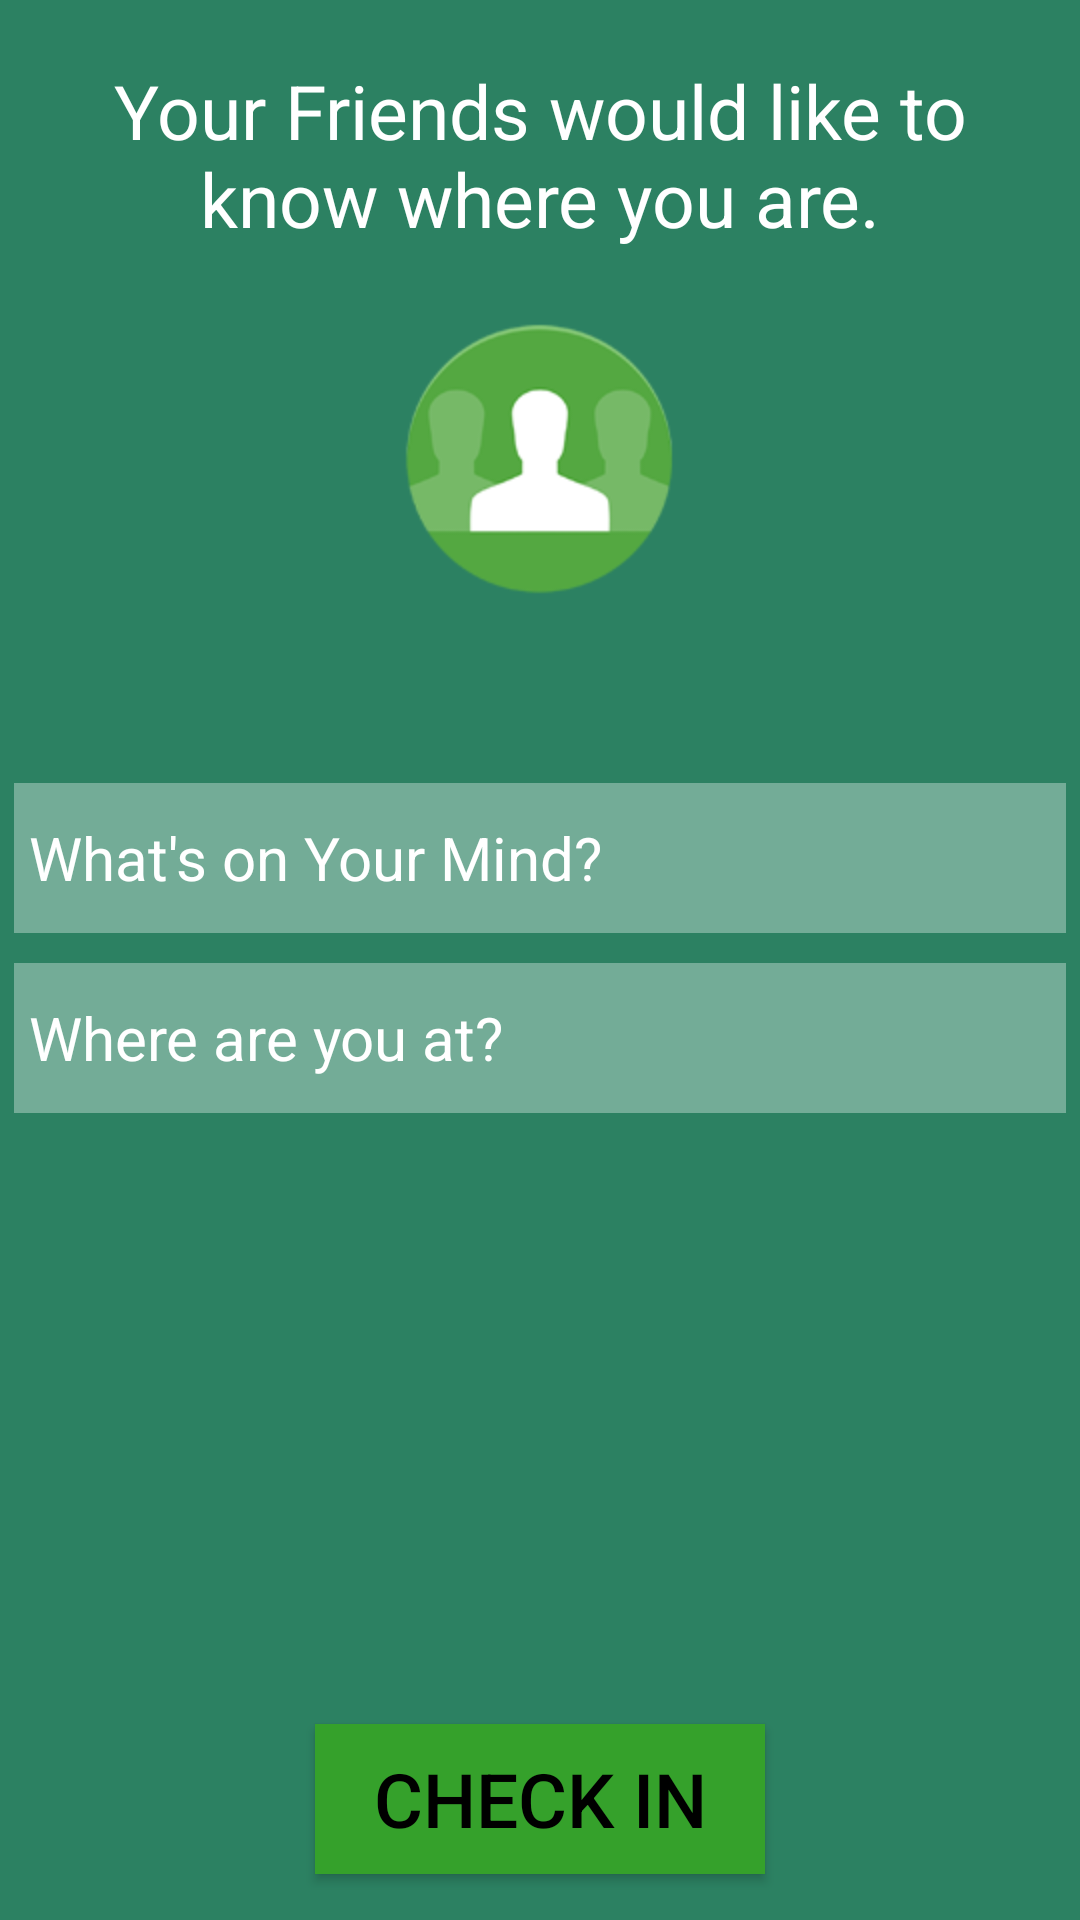

Icons on this 1080*1920 Android screen, each with the point to tap as point (x, y):
addprofilebtn: point (539, 458)
